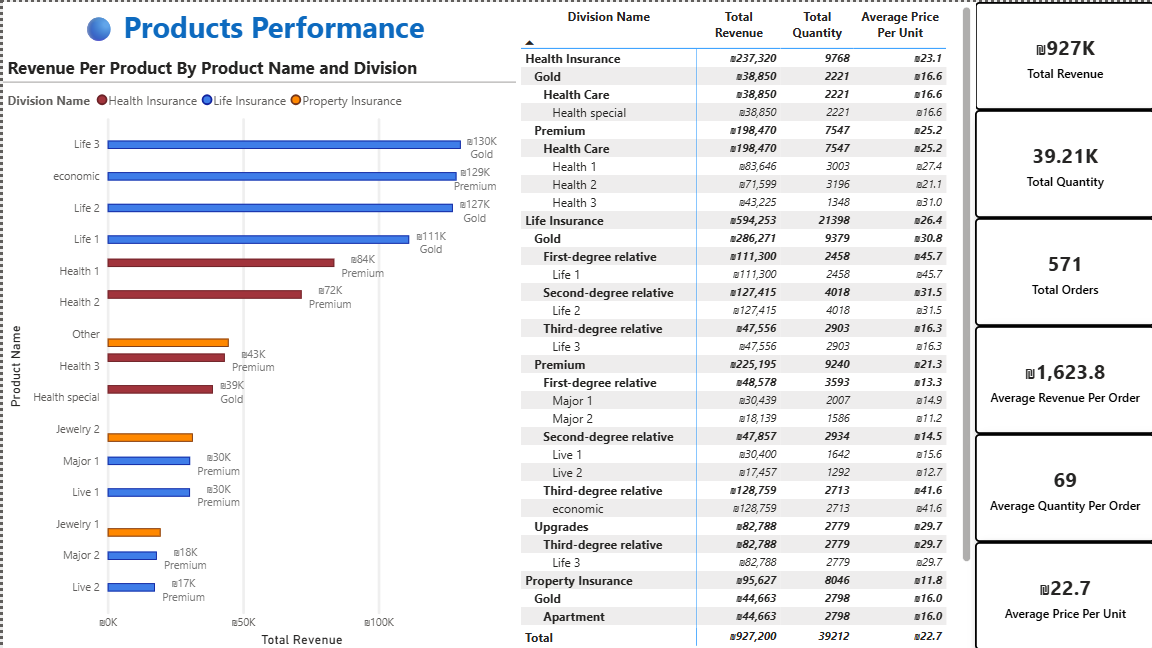

What the dashboard file says about the page in this screenshot:
{"tool":"powerbi","page":{"name":"🔵 Products Performance","canvas":[1280,720],"ordinal":1},"visuals":[{"type":"card","fields":{"Values":["M.Total Revenue"]},"box":[1080,0,200,120],"z":0},{"type":"clusteredBarChart","title":"Revenue Per Product By Product Name and Division","fields":{"Category":["Products.Product Name"],"Y":["M.Total Revenue"],"Series":["Products.Division Name"]},"box":[0,60,570,660],"z":1},{"type":"pivotTable","fields":{"Values":["M.Total Revenue","M.Total Quantity","M.Average Price Per Unit"],"Rows":["Products.Division Name Hierarchy.Division Name","Products.Division Name Hierarchy.Product Type","Products.Division Name Hierarchy.Segment Name","Products.Division Name Hierarchy.Product Name"]},"box":[570,0,510,720],"z":2},{"type":"card","fields":{"Values":["M.Total Quantity"]},"box":[1080,120,200,120],"z":3},{"type":"card","fields":{"Values":["M.Total Orders"]},"box":[1080,240,200,120],"z":4},{"type":"card","fields":{"Values":["M.Average Revenue Per Order"]},"box":[1080,360,200,120],"z":5},{"type":"card","fields":{"Values":["M.Average Quantity Per Order"]},"box":[1080,480,200,120],"z":6},{"type":"card","fields":{"Values":["M.Average Price Per Unit"]},"box":[1080,600,200,120],"z":7},{"type":"textbox","box":[0,0,556.7,60],"z":8}]}

Visuals, with their boxes in screenshot pixels (x1, y1, x2, y2), scaled from the page's 1280x720 canvas onto the 1152x648 screenshot:
card - M.Total Revenue: locate(972, 0, 1151, 108)
"Revenue Per Product By Product Name and Division" clusteredBarChart: locate(0, 54, 513, 647)
pivotTable - M.Total Revenue x M.Total Quantity: locate(513, 0, 972, 647)
card - M.Total Quantity: locate(972, 108, 1151, 216)
card - M.Total Orders: locate(972, 216, 1151, 324)
card - M.Average Revenue Per Order: locate(972, 324, 1151, 432)
card - M.Average Quantity Per Order: locate(972, 432, 1151, 540)
card - M.Average Price Per Unit: locate(972, 540, 1151, 647)
textbox: locate(0, 0, 501, 54)
